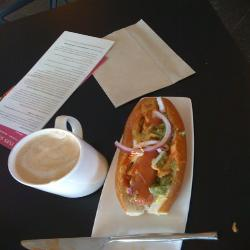coffee: (5, 124, 110, 198)
sandwich: (113, 97, 189, 219)
